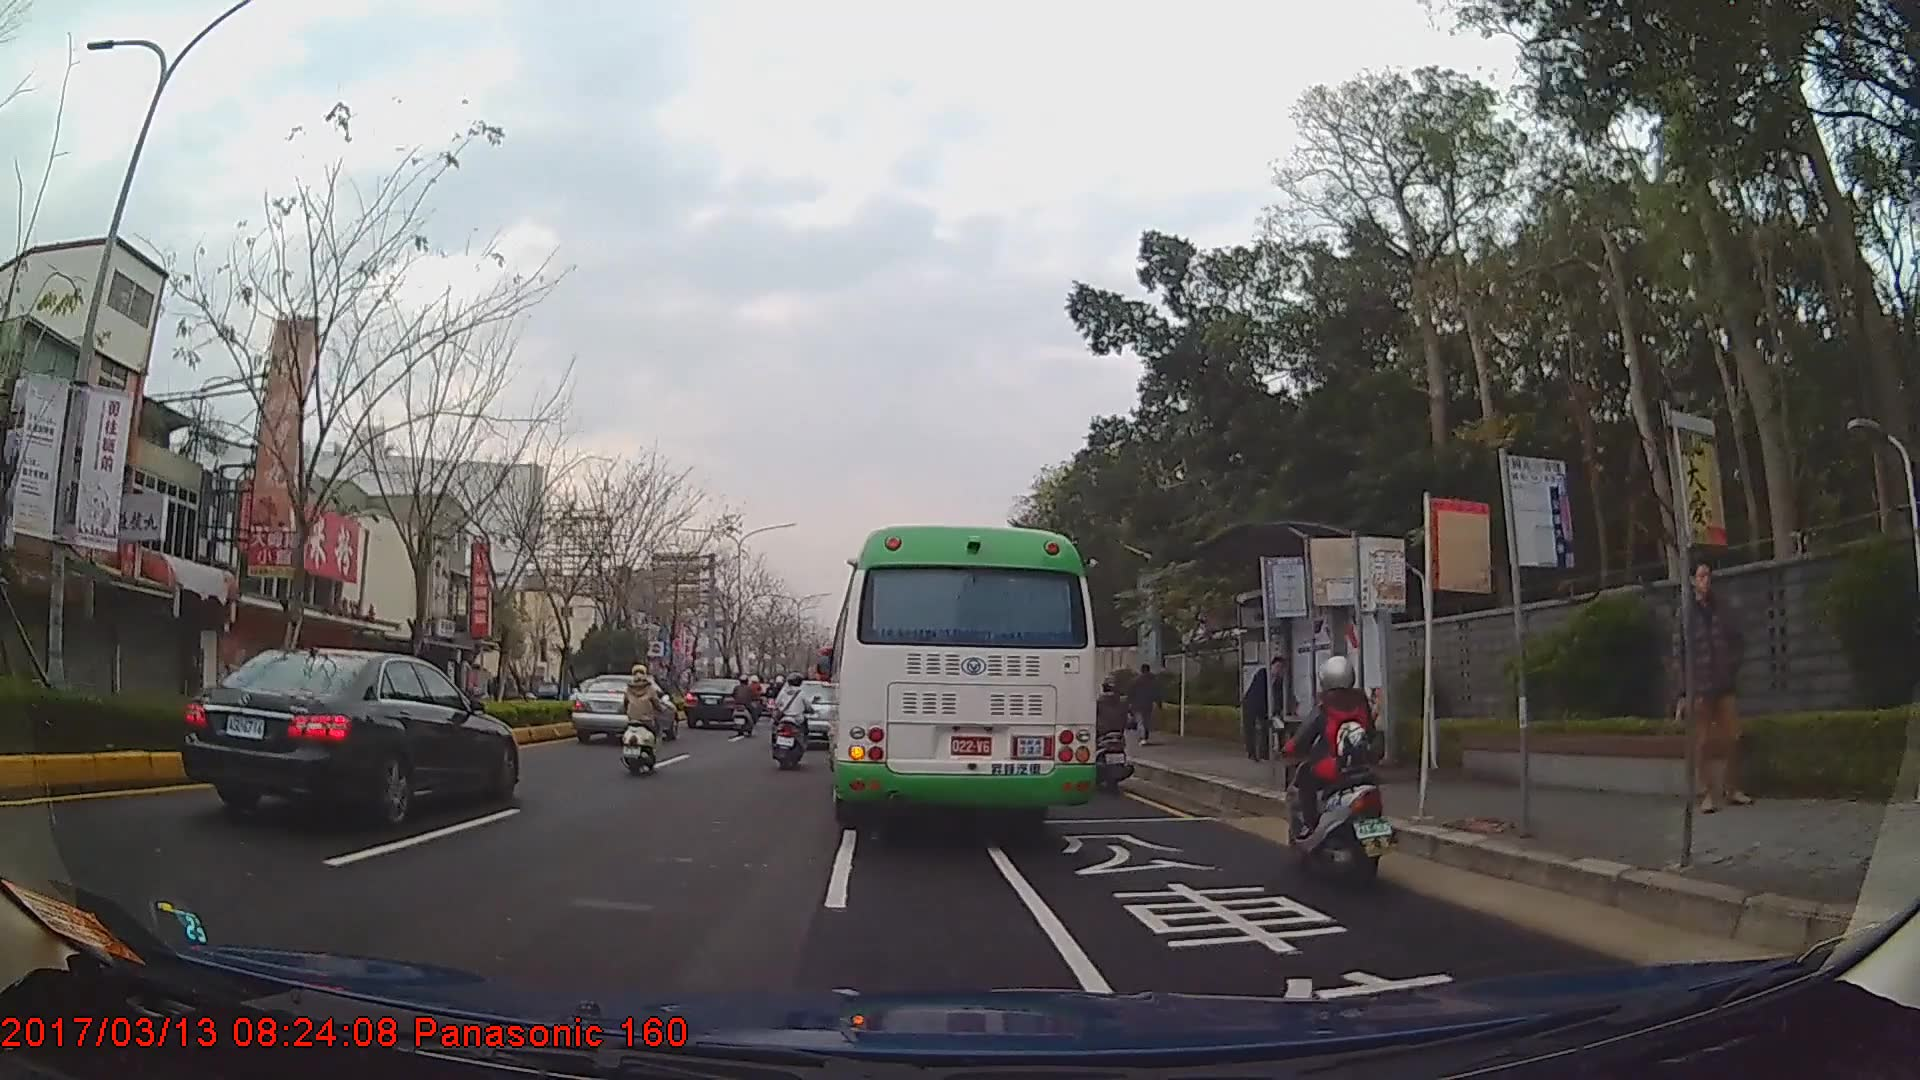pedestrian: (1673, 567, 1749, 815), (1239, 655, 1296, 764), (1129, 662, 1165, 747)
rider: (1283, 654, 1400, 886), (1092, 677, 1144, 795), (623, 664, 671, 775), (775, 673, 819, 772), (733, 675, 761, 736)
vehicle: (828, 526, 1102, 833), (179, 644, 519, 832), (572, 672, 678, 744), (686, 676, 753, 730), (786, 680, 841, 743)
